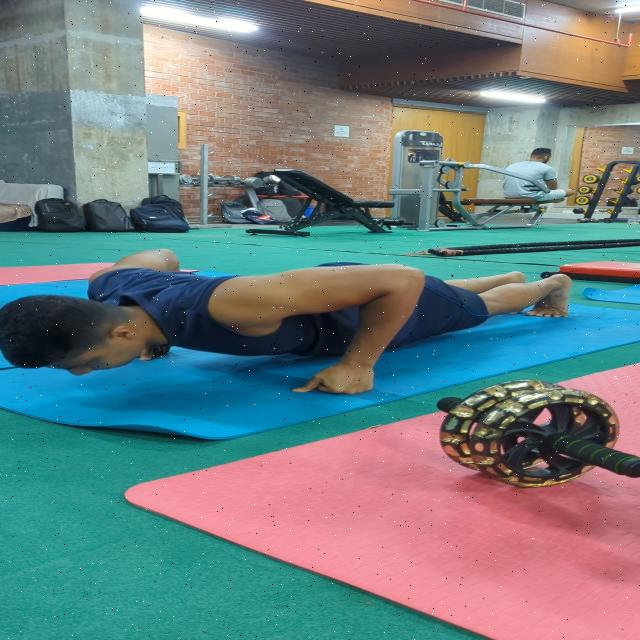Normal_PushUps: (0, 246, 590, 406)
